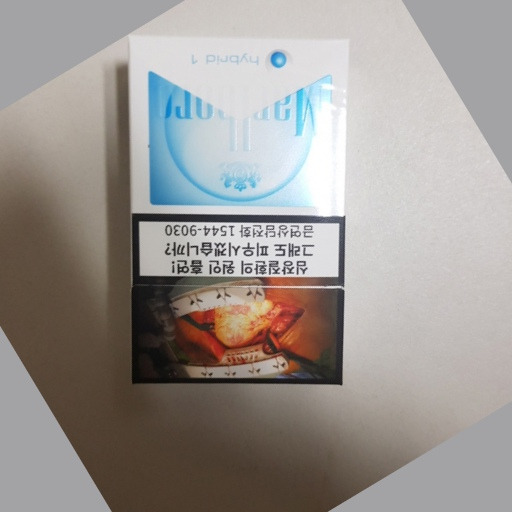Paper_0: (119, 29, 359, 398)
